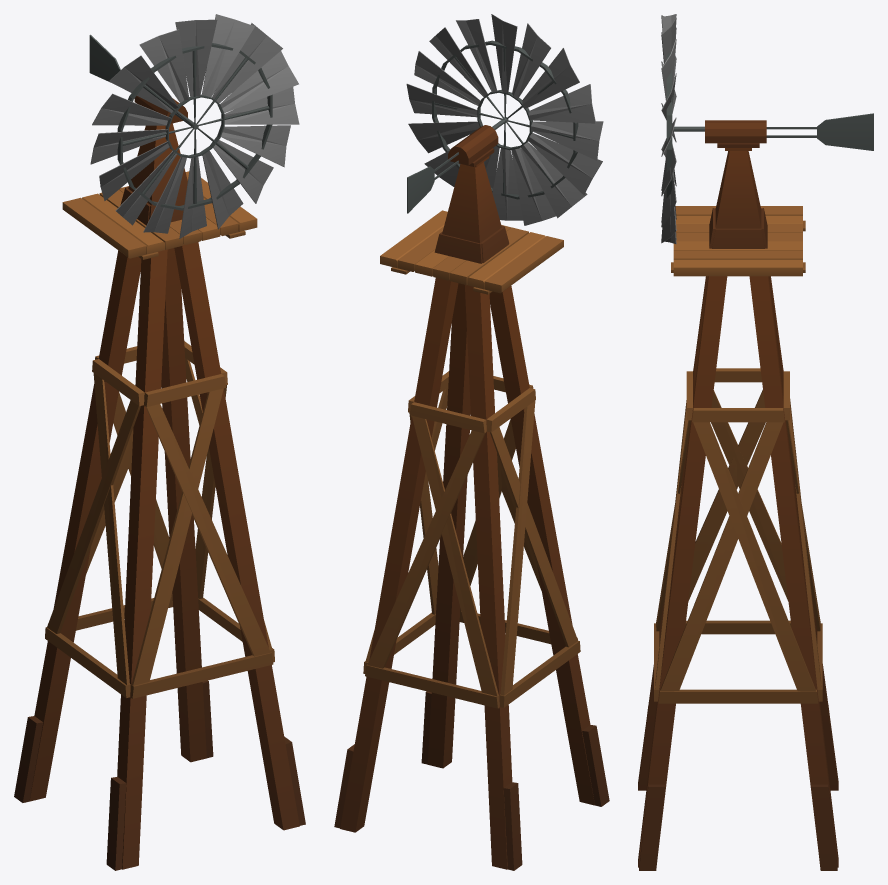
Rendered from Bld_Windmill_01.obj.
3 views of the same model, side by side, from view 1: azimuth 30°, elevation 25°; view 2: azimuth 150°, elevation 25°; view 3: azimuth 270°, elevation 25° (orthographic). The views are drawn at different scales.
Parts seen in each view (by area): view 1: Bld_Windmill_01, Bld_Windmill_Fan_01, Bld_Windmill_Middle_01; view 2: Bld_Windmill_01, Bld_Windmill_Fan_01, Bld_Windmill_Middle_01; view 3: Bld_Windmill_01, Bld_Windmill_Middle_01, Bld_Windmill_Fan_01.
Boxes of the visible parts, x1=… form: Bld_Windmill_01: x1=14, y1=123, x2=305, y2=870; Bld_Windmill_Fan_01: x1=90, y1=14, x2=299, y2=238; Bld_Windmill_Middle_01: x1=89, y1=34, x2=198, y2=129; Bld_Windmill_01: x1=334, y1=162, x2=609, y2=870; Bld_Windmill_Fan_01: x1=406, y1=14, x2=603, y2=225; Bld_Windmill_Middle_01: x1=407, y1=117, x2=508, y2=213; Bld_Windmill_01: x1=638, y1=151, x2=838, y2=870; Bld_Windmill_Middle_01: x1=673, y1=113, x2=873, y2=150; Bld_Windmill_Fan_01: x1=661, y1=14, x2=676, y2=244.
Bounding box in the file's own units: 2.29 × 8.82 × 2.36.
Materials: 1 (1 with a texture image).
